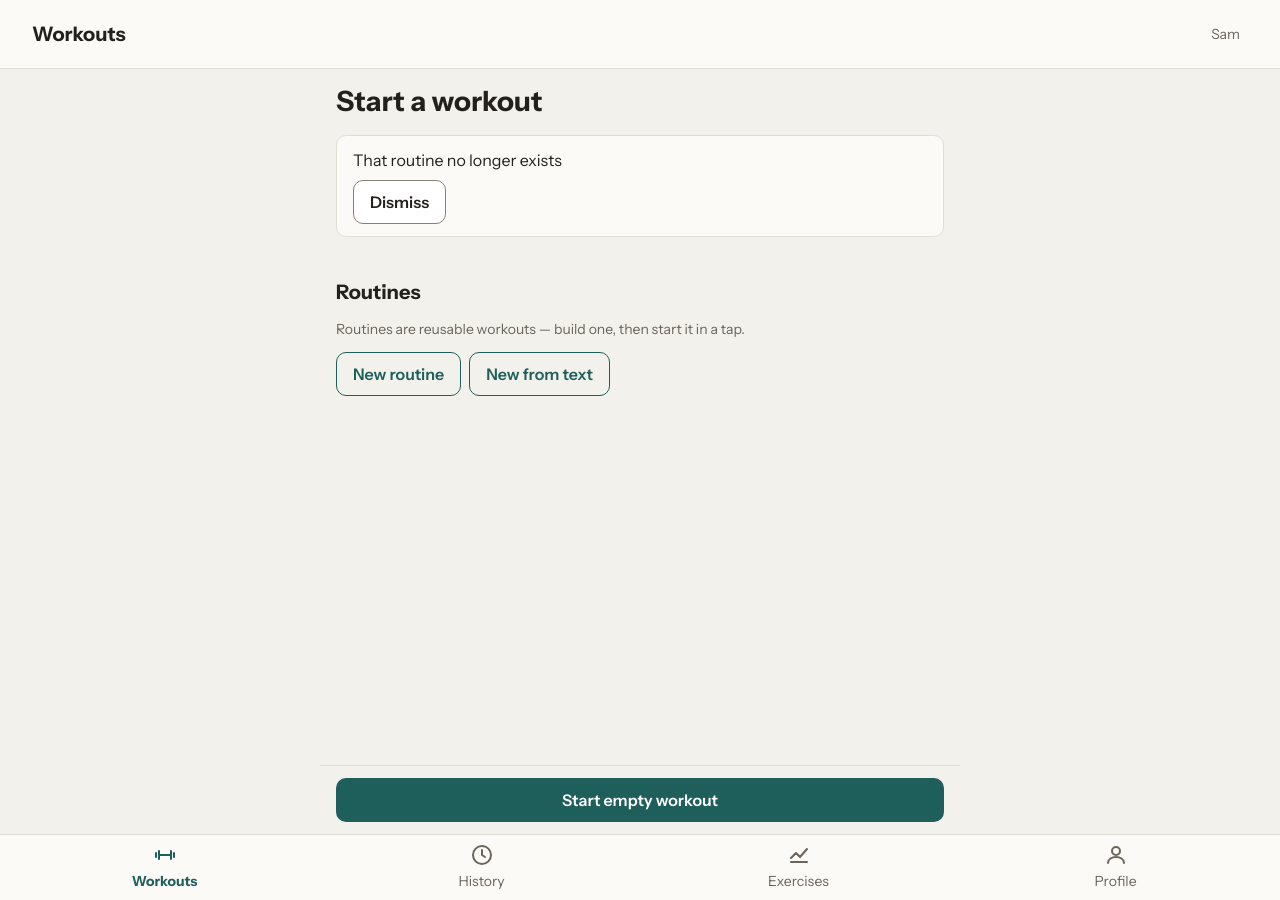
Test case: 10.0 AC23 — one-time notices from router state › routine-gone shows once, dismissibly
// Start elsewhere so the navigation mounts WorkoutsScreen fresh, as the preview's navigate does.
Click the button "Dismiss" at (400, 202), box [353, 180, 446, 224]
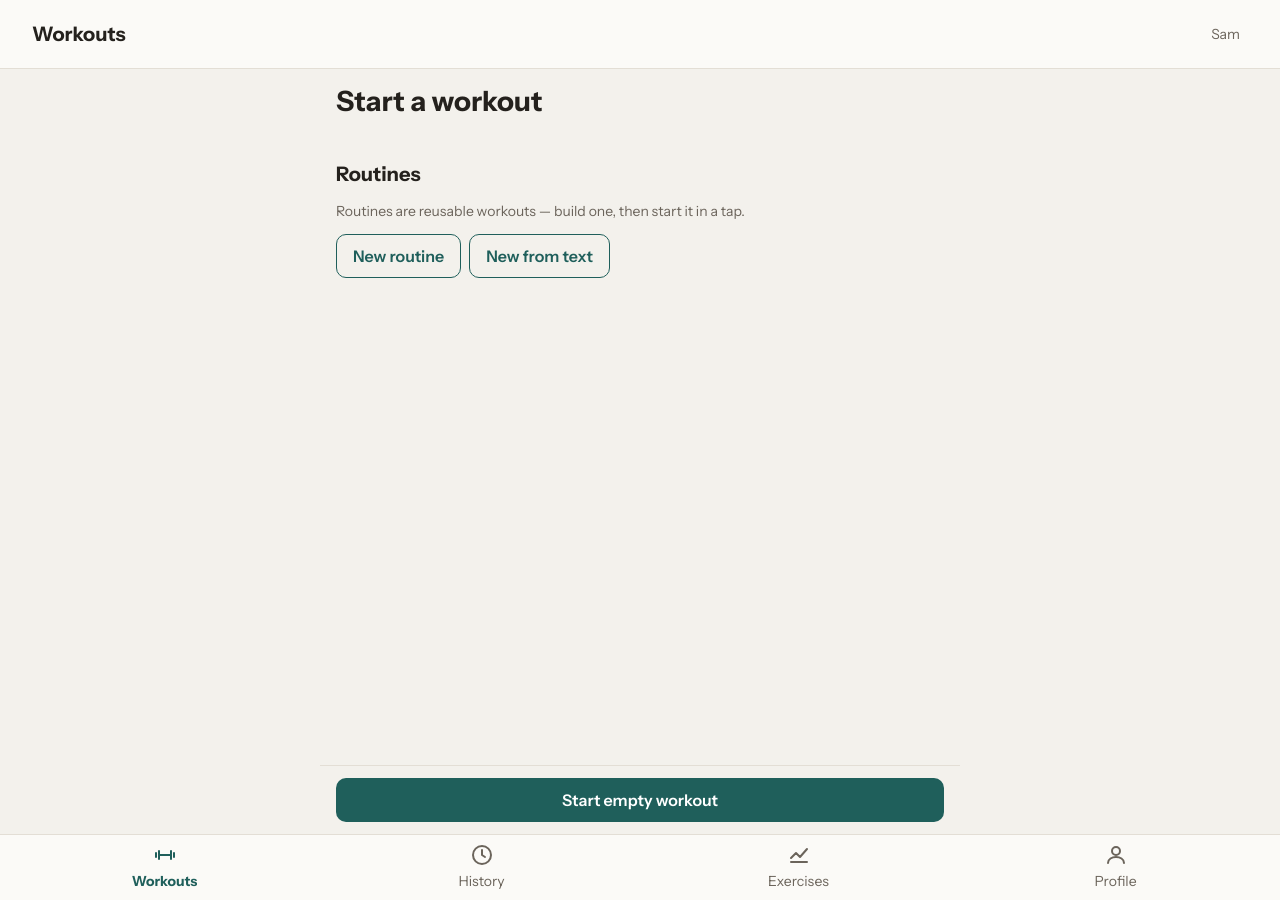
Expected: the text "That routine no longer exists" is gone
